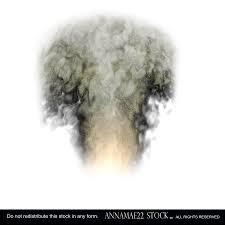smoke: (39, 17, 175, 161)
